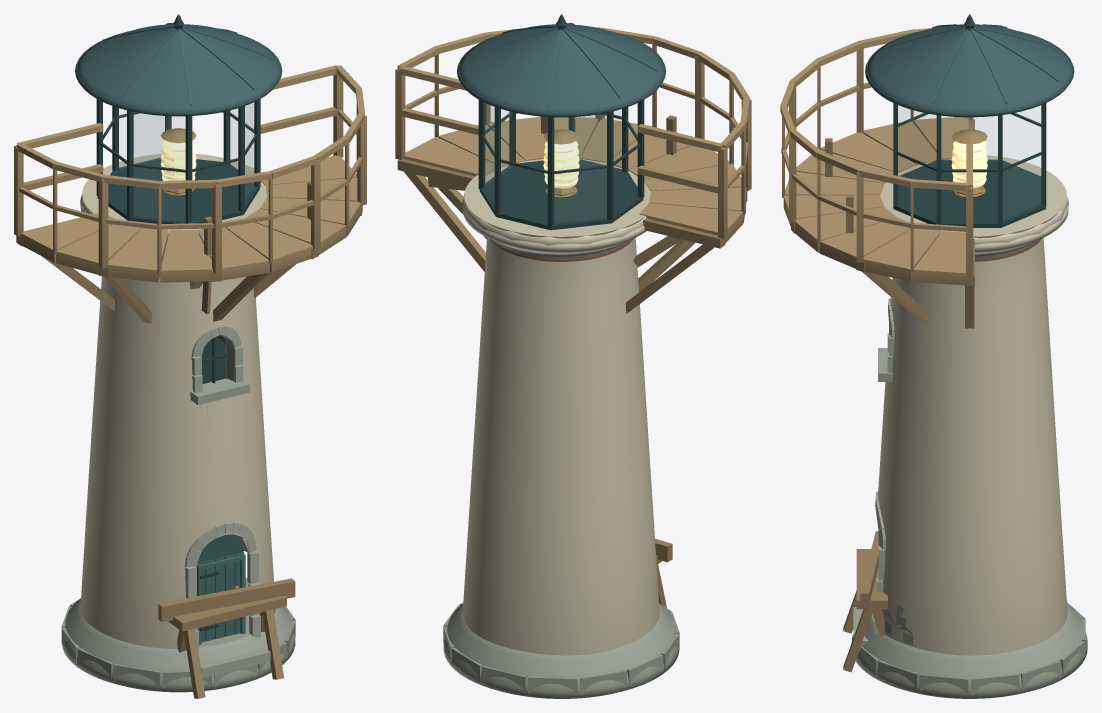
The model's file is lighthouse.glb.
3 views of the same model, side by side, from view 1: azimuth 30°, elevation 25°; view 2: azimuth 150°, elevation 25°; view 3: azimuth 270°, elevation 25° (orthographic).
Parts seen in each view (by area): view 1: SurfaceNear, GallerySurfaceRepairedNear, MetalNear, GlassNear, GallerySurfaceBrokenNear, SurfaceFar, LightCore; view 2: SurfaceNear, GallerySurfaceRepairedNear, MetalNear, GlassNear, SurfaceFar, GallerySurfaceBrokenNear, LightCore; view 3: SurfaceNear, GallerySurfaceRepairedNear, MetalNear, GlassNear, GallerySurfaceBrokenNear, SurfaceFar, LightCore.
Part boxes in pixels (<box>): SurfaceNear: <box>61,154,295,692</box>; GallerySurfaceRepairedNear: <box>14,65,366,323</box>; MetalNear: <box>75,14,282,631</box>; GlassNear: <box>119,102,254,383</box>; GallerySurfaceBrokenNear: <box>124,181,310,698</box>; SurfaceFar: <box>81,20,266,643</box>; LightCore: <box>160,140,196,180</box>; SurfaceNear: <box>443,155,679,698</box>; GallerySurfaceRepairedNear: <box>395,27,751,313</box>; MetalNear: <box>457,14,665,230</box>; GlassNear: <box>485,103,621,222</box>; SurfaceFar: <box>463,20,646,245</box>; GallerySurfaceBrokenNear: <box>428,115,682,607</box>; LightCore: <box>543,141,579,188</box>; SurfaceNear: <box>851,155,1087,698</box>; GallerySurfaceRepairedNear: <box>780,28,974,328</box>; MetalNear: <box>865,14,1074,577</box>; GlassNear: <box>898,106,1040,219</box>; GallerySurfaceBrokenNear: <box>825,138,887,672</box>; SurfaceFar: <box>872,20,1068,615</box>; LightCore: <box>951,141,987,188</box>.
Bounding box in the file's own units: 3.98 × 7.37 × 3.22.
